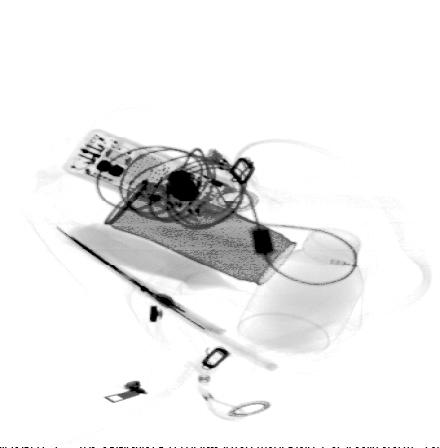Scissors: (57, 224, 227, 334)
